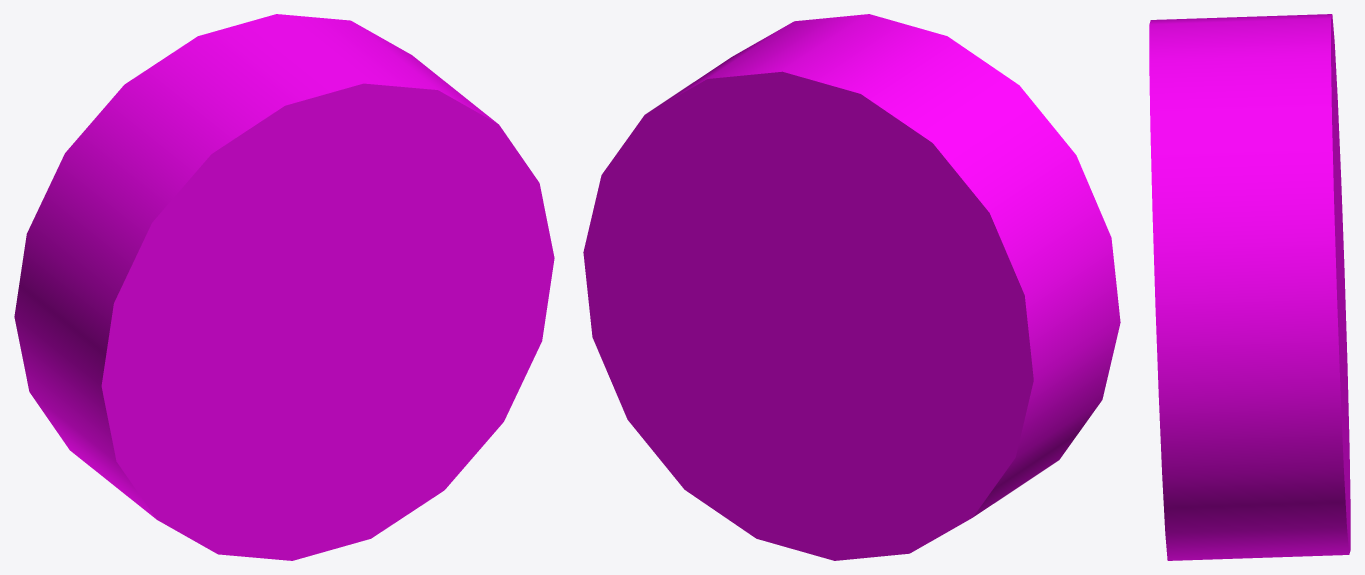
The model's file is original-47.obj.
3 views of the same model, side by side, from view 1: azimuth 30°, elevation 25°; view 2: azimuth 150°, elevation 25°; view 3: azimuth 270°, elevation 25° (orthographic). The views are drawn at different scales.
Parts seen in each view (by area): view 1: mesh61/mesh61-geometry#mesh61-geometry; view 2: mesh61/mesh61-geometry#mesh61-geometry; view 3: mesh61/mesh61-geometry#mesh61-geometry.
Part boxes in pixels (left/top/right/bottom): mesh61/mesh61-geometry#mesh61-geometry: left=14, top=14, right=554, bottom=560; mesh61/mesh61-geometry#mesh61-geometry: left=583, top=14, right=1120, bottom=560; mesh61/mesh61-geometry#mesh61-geometry: left=1149, top=14, right=1350, bottom=560.
Bounding box in the file's own units: 0.0211 × 0.0212 × 0.00781.
